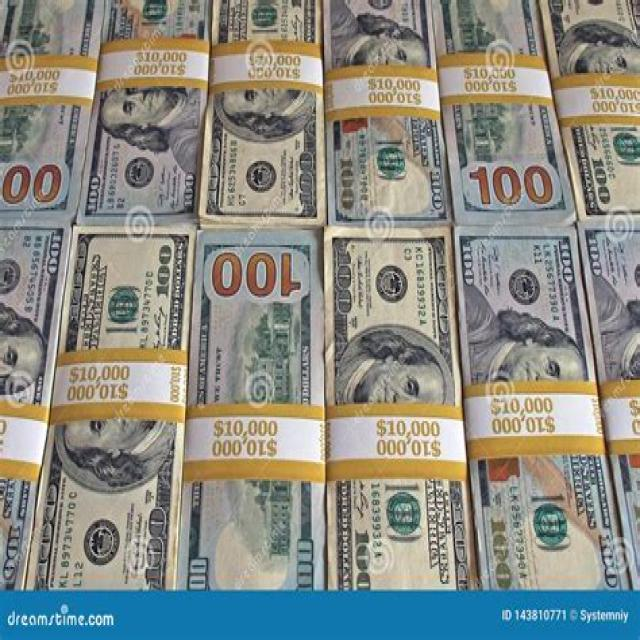Hundred: (452, 229, 636, 596), (17, 229, 192, 592), (326, 226, 482, 592), (187, 230, 326, 590), (73, 0, 218, 225), (432, 0, 578, 223), (321, 1, 453, 224), (0, 0, 105, 232)
